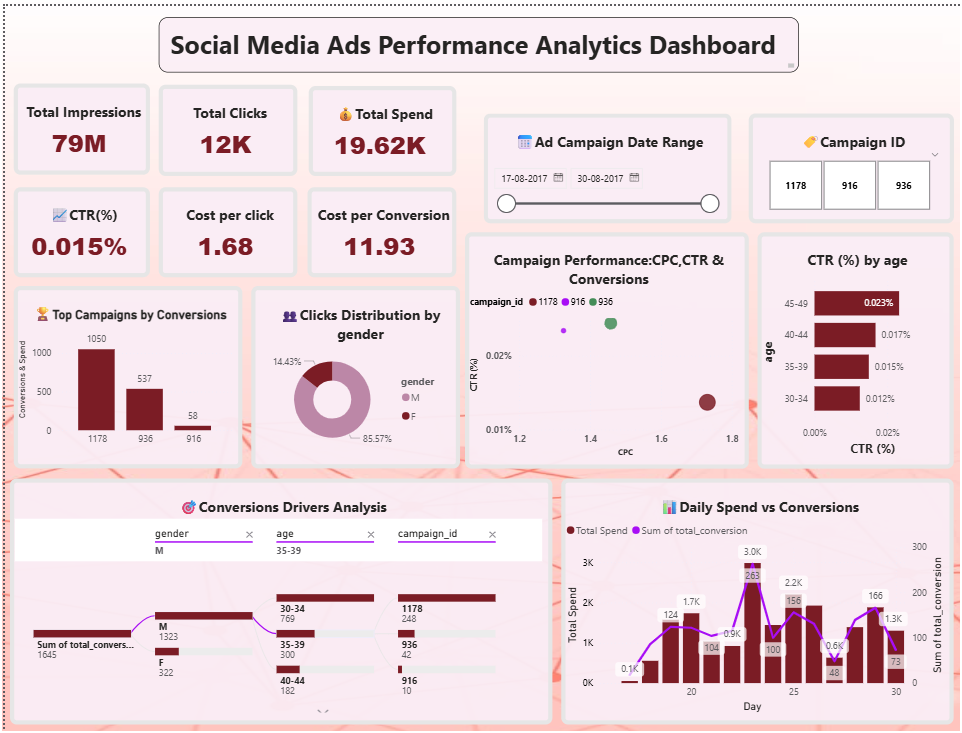

Layout of this report page (visuals, bound fields, positions):
{"tool":"powerbi","page":{"name":"Page 1","canvas":[1280,1200],"ordinal":0},"visuals":[{"type":"card","title":"Total Impressions","fields":{"Values":["data.Total Impressions"]},"box":[11.7,103.3,181.7,121.7],"z":0},{"type":"card","title":"Total Clicks","fields":{"Values":["data.Total Clicks"]},"box":[205,105,185,121.7],"z":1000},{"type":"card","title":"💰Total Spend","fields":{"Values":["data.Total Spend"]},"box":[405,106.7,196.7,120],"z":2000},{"type":"card","title":"📈CTR(%)","fields":{"Values":["data.CTR (%)"]},"box":[11.7,241.7,181.7,120],"z":3000},{"type":"card","title":"Cost per click","fields":{"Values":["data.CPC"]},"box":[205,241.7,185,120],"z":4000},{"type":"decompositionTreeVisual","title":"🎯Conversions Drivers Analysis","fields":{"Analyze":["Sum(data.total_conversion)"],"ExplainBy":["data.gender","data.age","data.campaign_id"]},"box":[6.7,630,723.3,328.3],"z":5000},{"type":"lineClusteredColumnComboChart","title":"📊Daily Spend vs Conversions","fields":{"Category":["data.reporting_start.Variation.Date Hierarchy.Day"],"Y":["data.Total Spend"],"Y2":["Sum(data.total_conversion)"]},"box":[741.7,630,523.3,328.3],"z":6000},{"type":"clusteredColumnChart","title":"🏆Top  Campaigns by Conversions ","fields":{"Category":["data.campaign_id"],"Y":["Sum(data.total_conversion)"]},"box":[11.7,373.3,305,243.3],"z":7000},{"type":"clusteredBarChart","fields":{"Y":["data.CTR (%)"],"Category":["data.age"]},"box":[1003.3,301.7,261.7,315],"z":8000},{"type":"scatterChart","title":"Campaign Performance:CPC,CTR & Conversions","fields":{"X":["data.CPC"],"Y":["data.CTR (%)"],"Size":["Sum(data.total_conversion)"],"Series":["data.campaign_id"]},"box":[613.3,301.7,378.3,315],"z":9000},{"type":"donutChart","title":"👥Clicks Distribution by gender","fields":{"Category":["data.gender"],"Y":["data.Total Clicks"]},"box":[328.3,373.3,278,243.3],"z":10000},{"type":"slicer","title":"📅Ad Campaign Date Range","fields":{"Values":["data.reporting_start"]},"box":[638.3,143.3,330,146.7],"z":11000},{"type":"slicer","title":"🏷️Campaign ID","fields":{"Values":["data.campaign_id"]},"box":[991.7,143.3,273.3,146.7],"z":12000},{"type":"textbox","title":"                          Social Media Ads Performance Analytics Dashboard","box":[205,15,853.3,73.3],"z":13000},{"type":"card","title":"Cost per Conversion","fields":{"Values":["data.Cost per Conversion"]},"box":[403.3,241.7,198.3,120],"z":13001}]}

Visuals, with their boxes on the page's 1280x1200 design canvas (x1, y1, x2, y2). These are canvas units, not pixel positions in the 962x733 screenshot, which may show the page scaled, cropped or inside an application window:
"Total Impressions" card: <box>12,103,193,225</box>
"Total Clicks" card: <box>205,105,390,227</box>
"💰Total Spend" card: <box>405,107,602,227</box>
"📈CTR(%)" card: <box>12,242,193,362</box>
"Cost per click" card: <box>205,242,390,362</box>
"🎯Conversions Drivers Analysis" decompositionTreeVisual: <box>7,630,730,958</box>
"📊Daily Spend vs Conversions" lineClusteredColumnComboChart: <box>742,630,1265,958</box>
"🏆Top  Campaigns by Conversions " clusteredColumnChart: <box>12,373,317,617</box>
clusteredBarChart - data.CTR (%) x data.age: <box>1003,302,1265,617</box>
"Campaign Performance:CPC,CTR & Conversions" scatterChart: <box>613,302,992,617</box>
"👥Clicks Distribution by gender" donutChart: <box>328,373,606,617</box>
"📅Ad Campaign Date Range" slicer: <box>638,143,968,290</box>
"🏷️Campaign ID" slicer: <box>992,143,1265,290</box>
"                          Social Media Ads Performance Analytics Dashboard" textbox: <box>205,15,1058,88</box>
"Cost per Conversion" card: <box>403,242,602,362</box>
